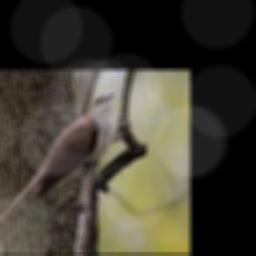Cuckoo: (0, 92, 114, 241)
